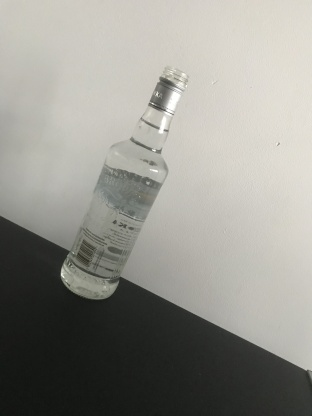nakretka: (146, 62, 190, 119)
